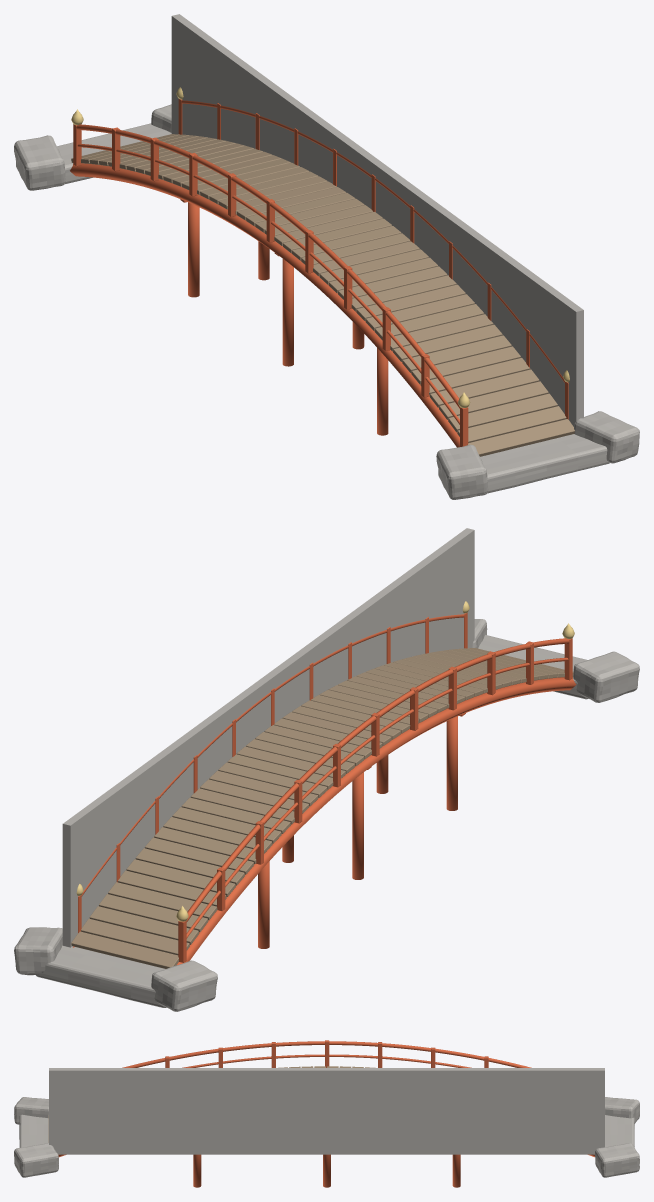
Rendered from bridge.glb.
3 renders of one model, top to bottom at view 1: azimuth 30°, elevation 25°; view 2: azimuth 150°, elevation 25°; view 3: azimuth 270°, elevation 25°, orthographic. The views are drawn at different scales.
Parts seen in each view (by area): view 1: bridge, rail-colonly.001; view 2: bridge, rail-colonly.001; view 3: rail-colonly.001, bridge.
Part boxes in pixels (x1,y1,x2,y2): bridge: (14,87,639,499); rail-colonly.001: (171,14,583,426); bridge: (14,601,639,1011); rail-colonly.001: (62,528,474,947); rail-colonly.001: (49,1068,604,1154); bridge: (14,1040,639,1187).
Size of what is drawn, in the model's own units: 4.92 by 4.4 by 20.26.
